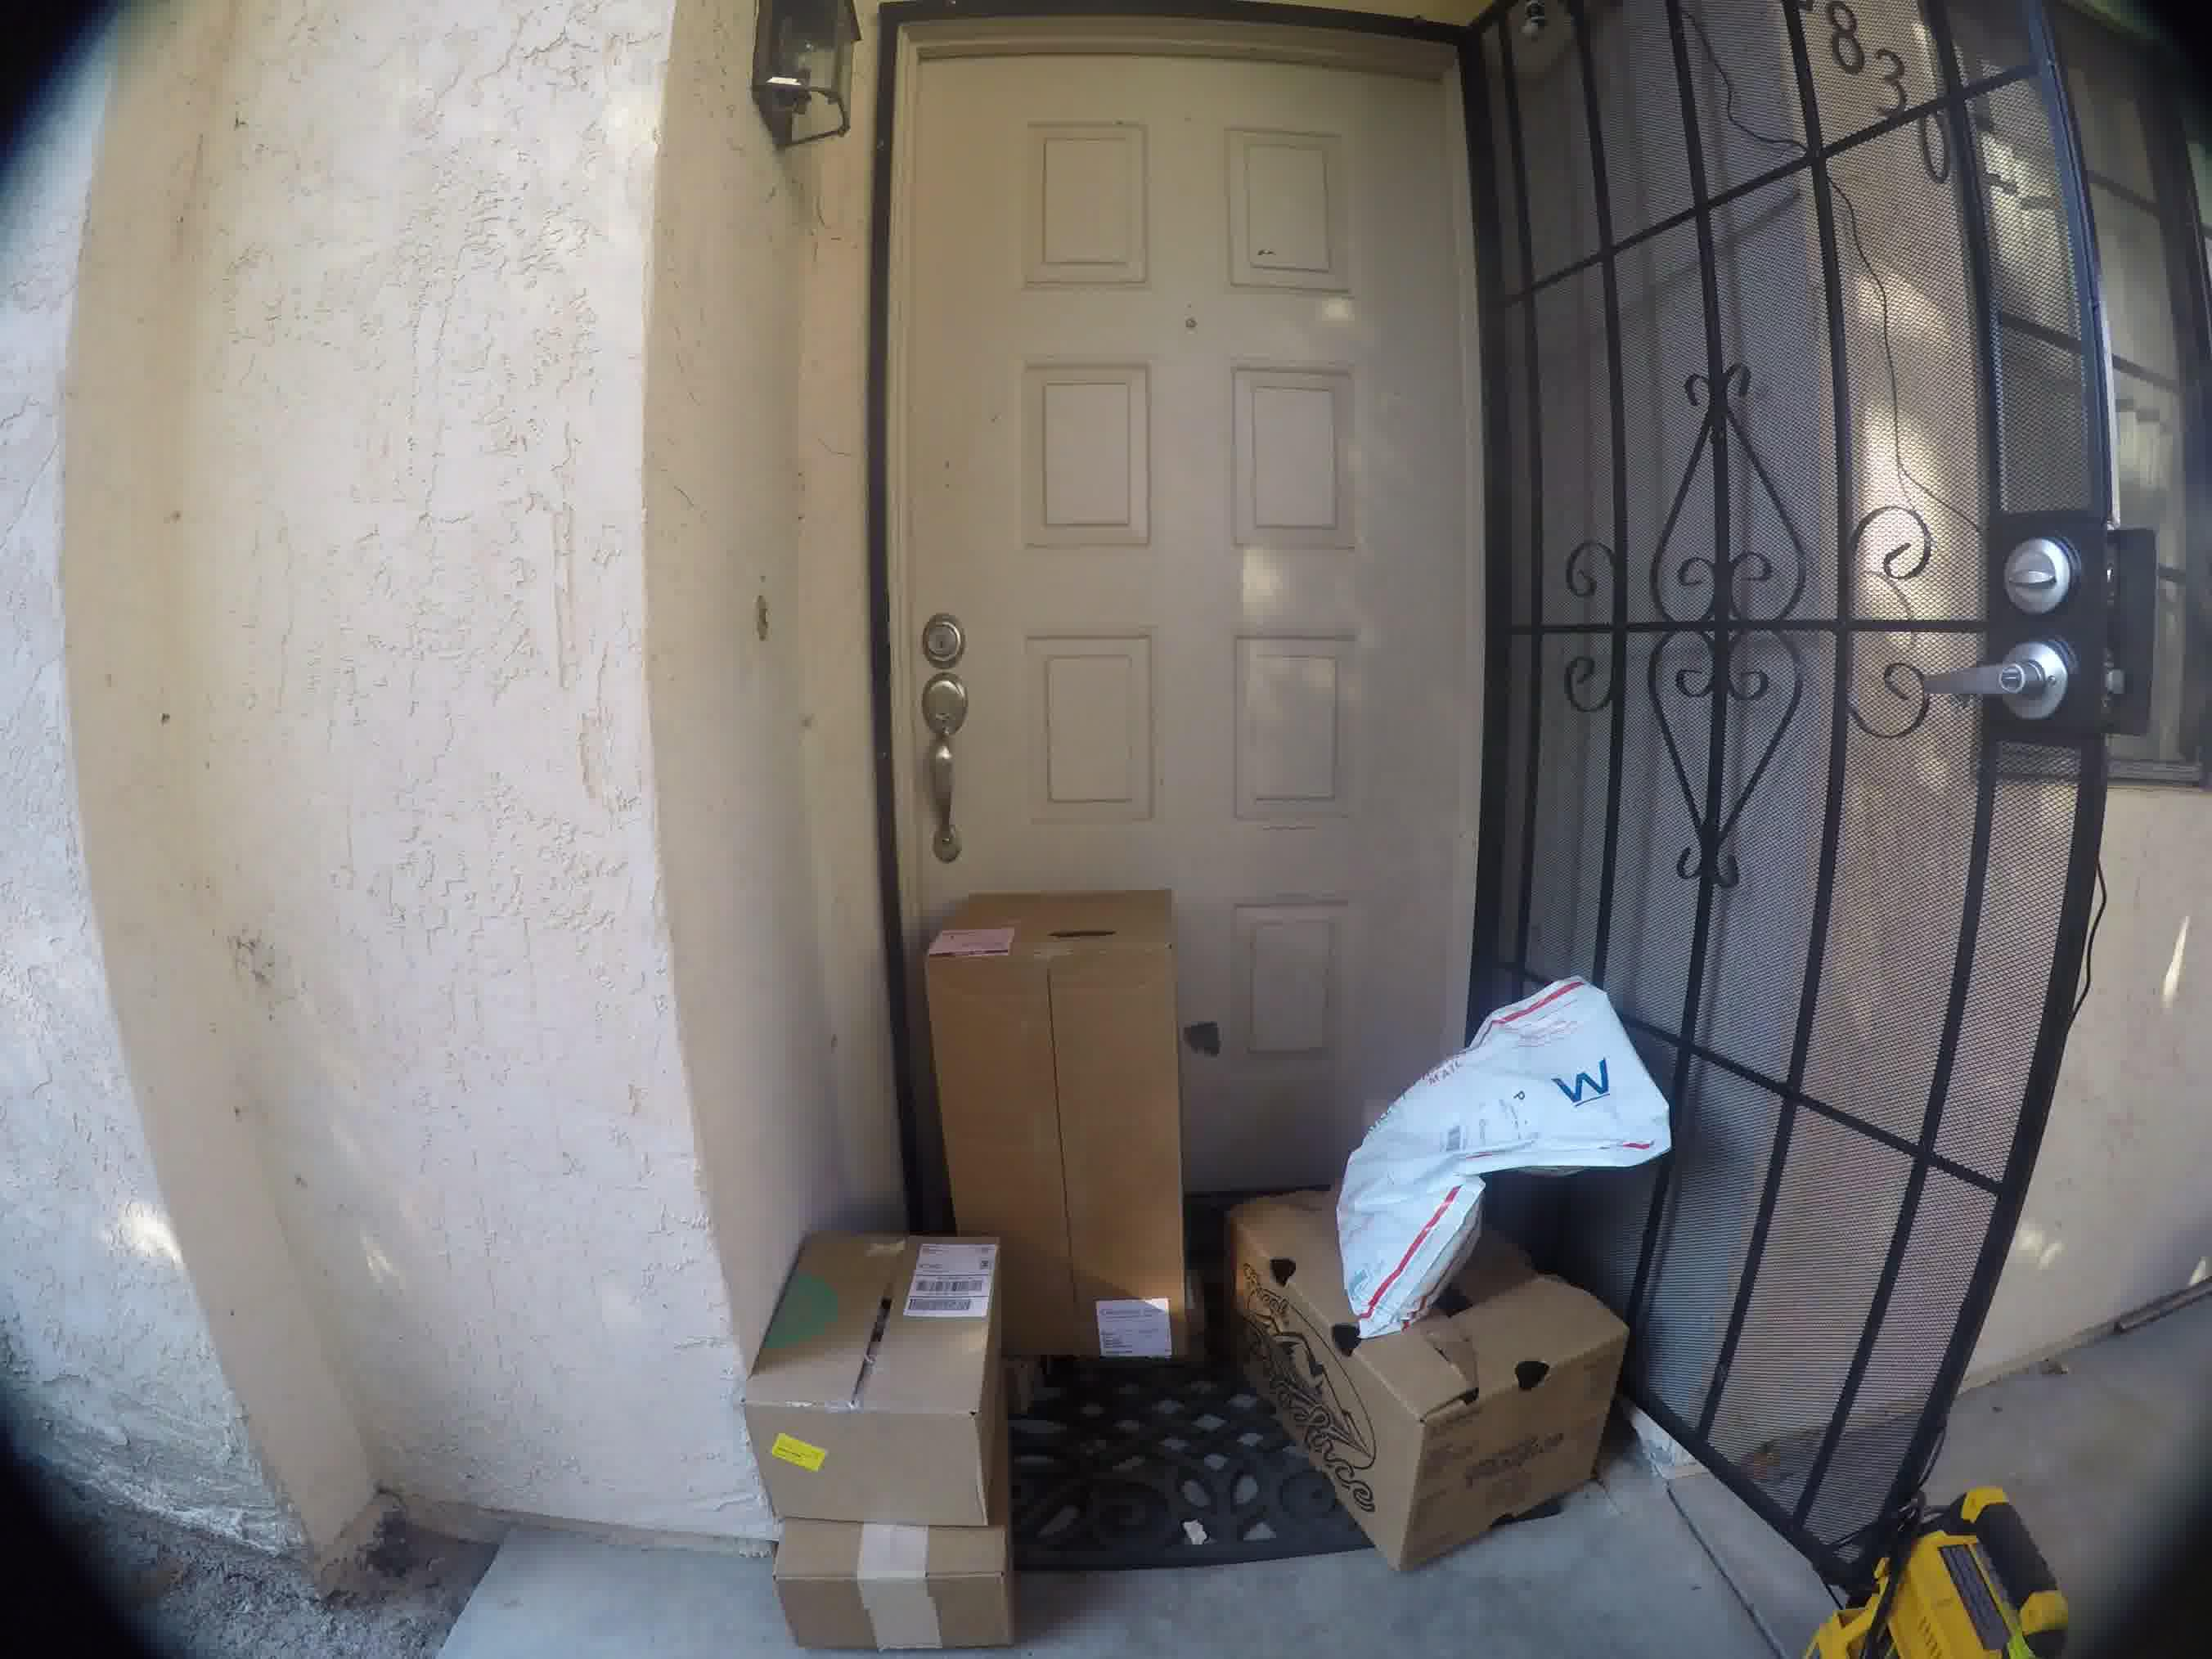box: (925, 880, 1233, 1227), (775, 1211, 1008, 1523), (1327, 1392, 1686, 1554)
plastic_bag: (1324, 978, 1662, 1366)
